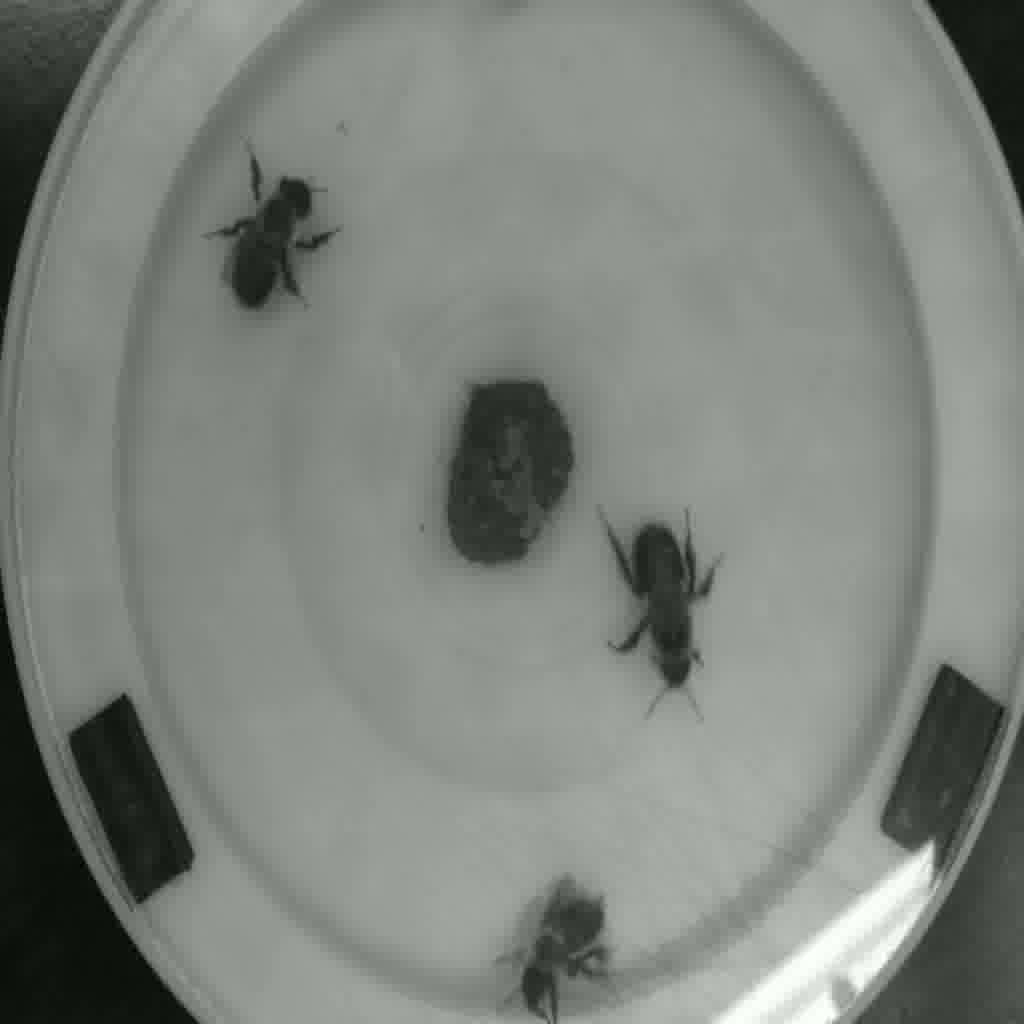bee: (208, 155, 342, 323), (617, 533, 738, 714), (501, 876, 626, 1024)
